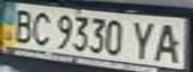0: (103, 16, 130, 56)
3: (87, 15, 109, 55), (69, 12, 90, 53)
9: (51, 11, 75, 51)
A: (148, 20, 187, 64)
B: (6, 6, 39, 44)
C: (27, 9, 54, 47)
Y: (127, 18, 160, 61)
